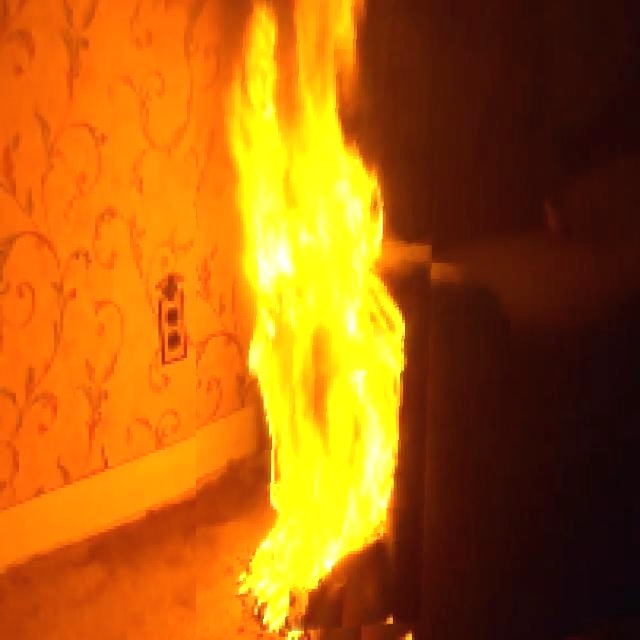fire: (203, 1, 413, 584)
